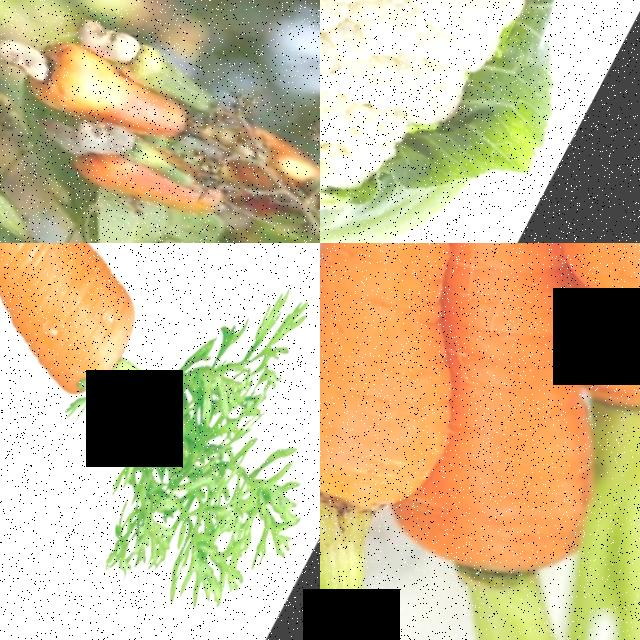carrot: (0, 243, 273, 535), (407, 369, 640, 640), (320, 300, 463, 569)
cashew: (69, 11, 145, 75), (0, 21, 60, 97), (73, 116, 142, 171)
cauliflower: (320, 0, 640, 243)
